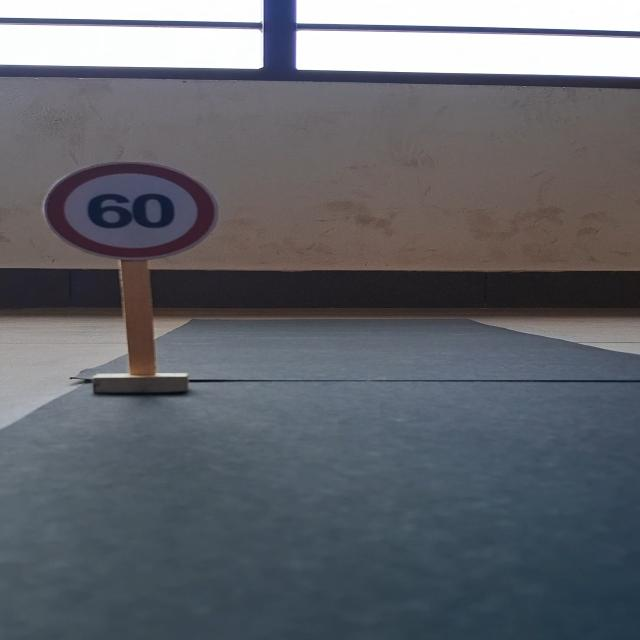Speed60: (42, 167, 218, 258)
